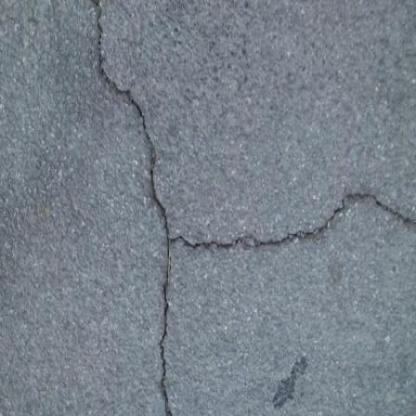Cracks: (68, 2, 231, 416), (145, 172, 416, 269)
